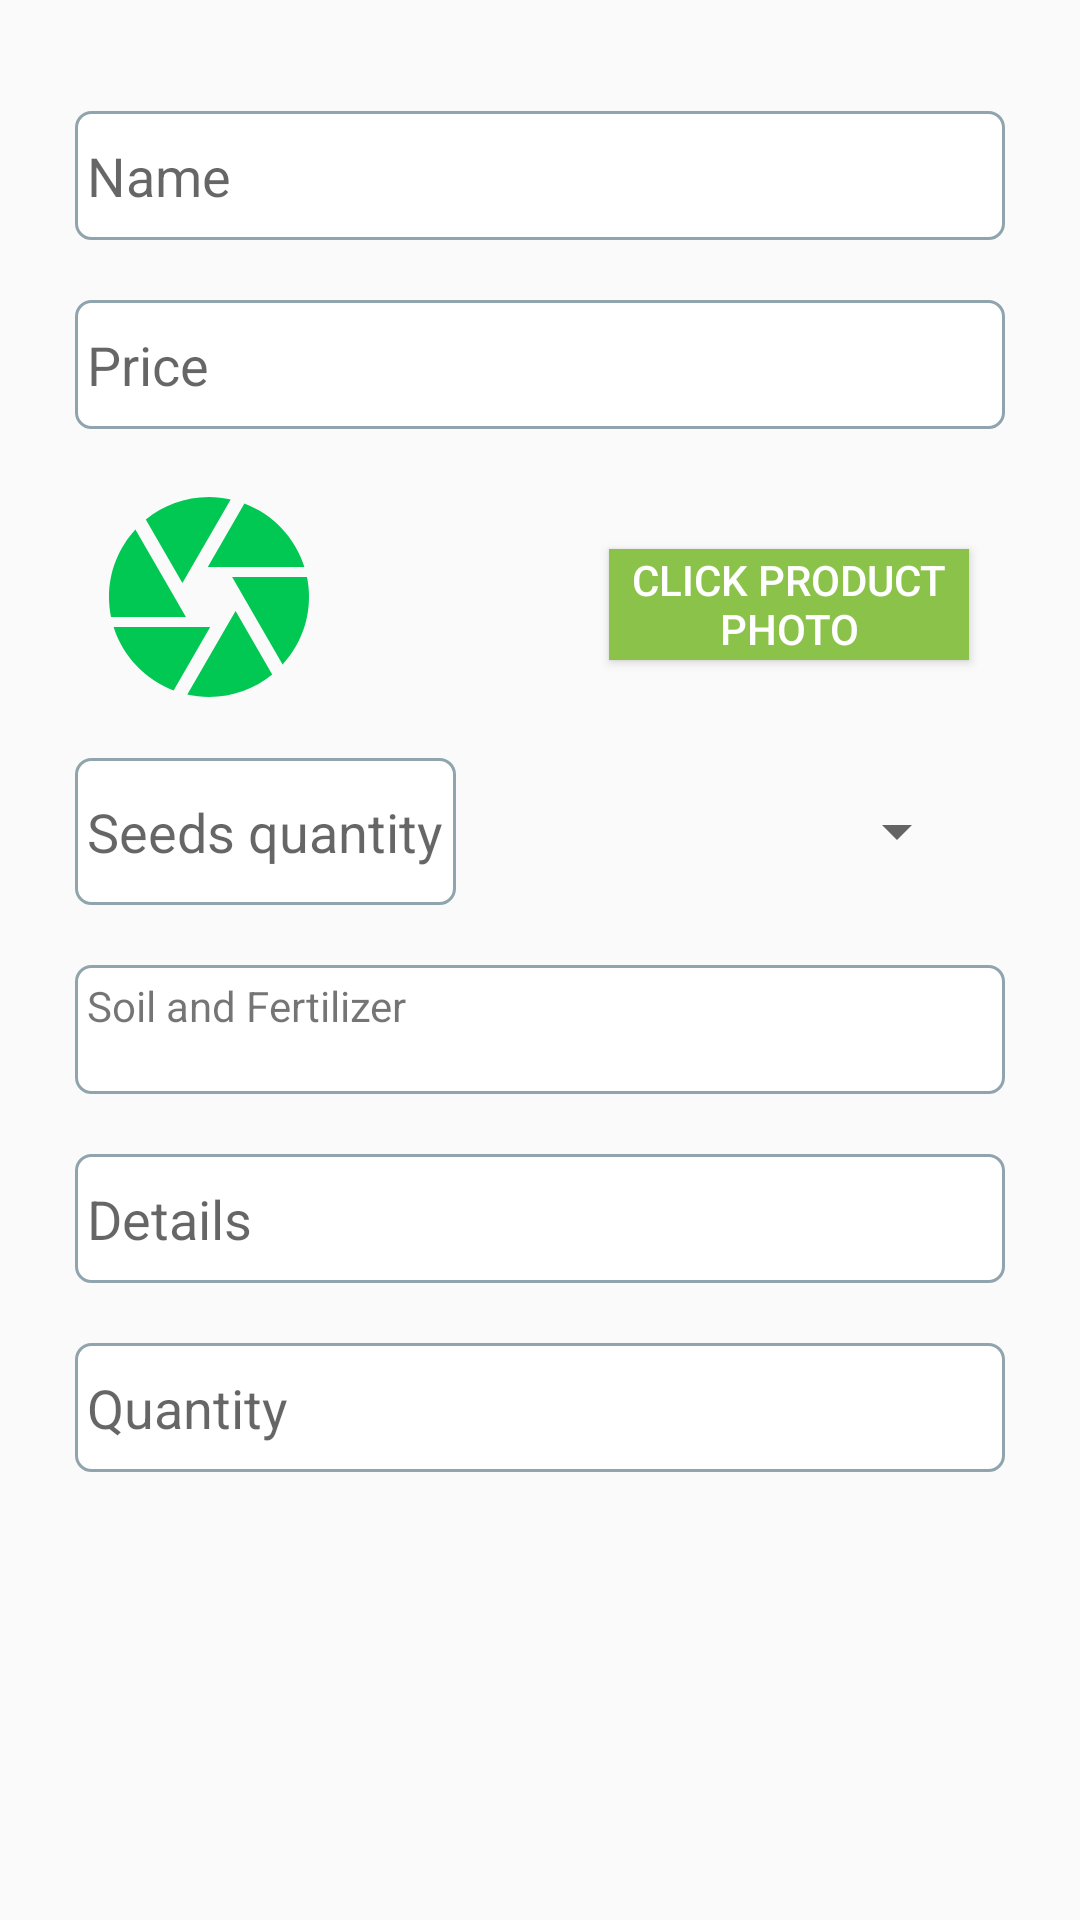

Named icons in this screenshot (1080 x 1920) and their bounding boxes, {"x1": x1, "y1": y1, "x2": x2, "y2": y2}:
camera: {"x1": 109, "y1": 497, "x2": 309, "y2": 697}
